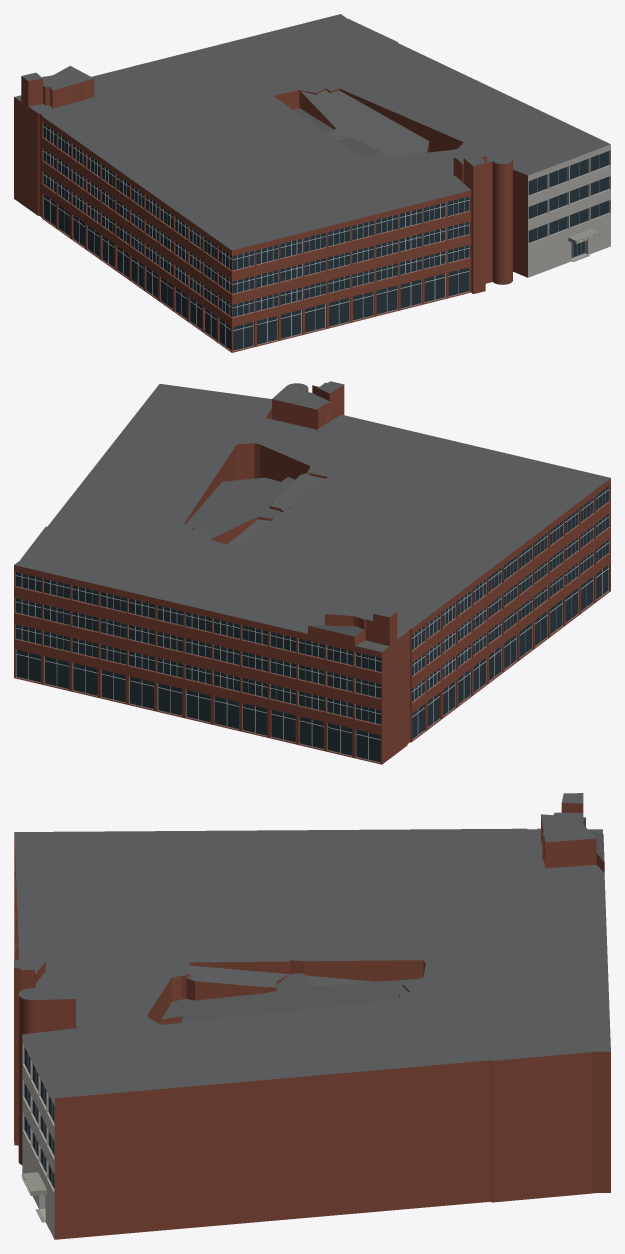
Rendered from recipe-large-haarlemmerweg-325-110408.glb.
3 views of the same model, one above another, from view 1: azimuth 30°, elevation 25°; view 2: azimuth 150°, elevation 25°; view 3: azimuth 270°, elevation 25° (orthographic). The views are drawn at different scales.
Parts seen in each view (by area): view 1: haarlemmerweg-325-110408; view 2: haarlemmerweg-325-110408; view 3: haarlemmerweg-325-110408.
Part boxes in pixels (left/top/right/bottom): haarlemmerweg-325-110408: left=14, top=14, right=610, bottom=352; haarlemmerweg-325-110408: left=14, top=381, right=610, bottom=764; haarlemmerweg-325-110408: left=14, top=793, right=610, bottom=1239.
Bounding box in the file's own units: 62.24 × 19.07 × 58.23.
